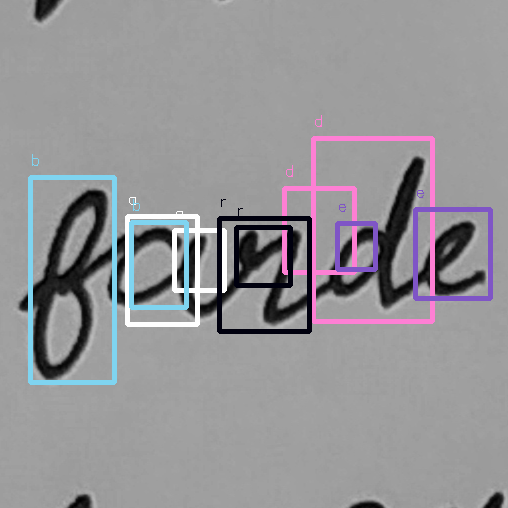a: (104, 222, 211, 323)
b: (24, 185, 116, 383)
d: (320, 151, 429, 312)
e: (419, 217, 493, 299)
r: (219, 220, 309, 331)
